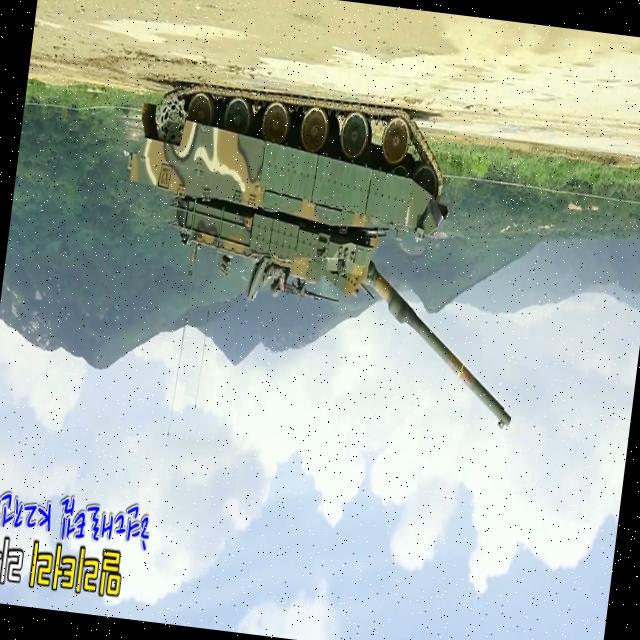korea tank: (98, 74, 546, 428)
